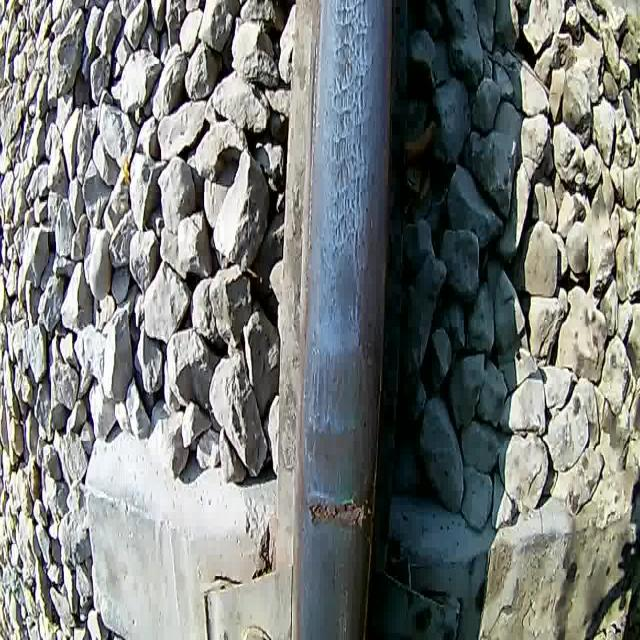Spallings: (303, 490, 376, 541)
Squats: (325, 0, 379, 247), (302, 340, 380, 490), (315, 240, 363, 336)
